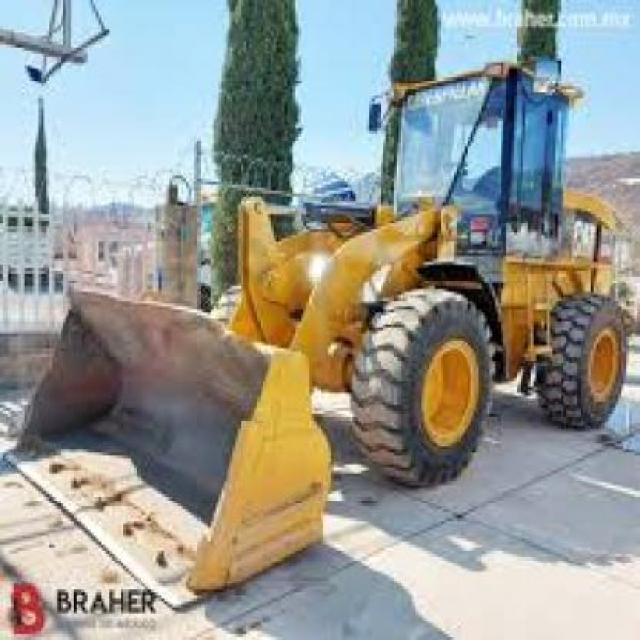buldozerpayloadergrader: (0, 42, 640, 620)
